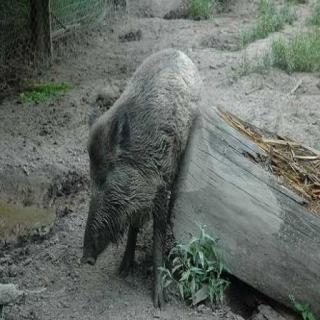Pig: (72, 53, 200, 270)
